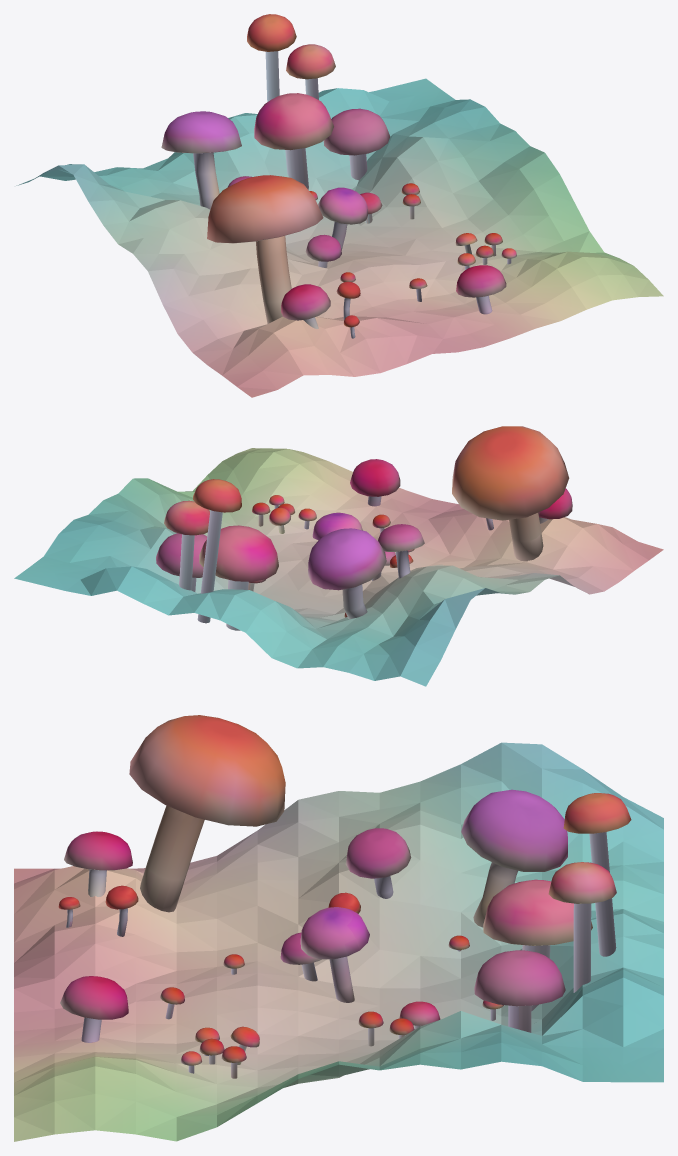
File: vc_diorama_004a.fbx
The picture shows the model from 3 angles, top to bottom: view 1: azimuth 30°, elevation 25°; view 2: azimuth 150°, elevation 25°; view 3: azimuth 270°, elevation 25°; orthographic projection. The views are drawn at different scales.
Visible parts, largest first — view 1: ground, mushroom.000, mushroom.022, mushroom.021, mushroom.018, mushroom.001, mushroom.026, mushroom.003, mushroom.020, mushroom.016, mushroom.008; view 2: ground, mushroom.000, mushroom.021, mushroom.022, mushroom.001, mushroom.003, mushroom.020, mushroom.023, mushroom.018, mushroom.026, mushroom.016; view 3: ground, mushroom.000, mushroom.021, mushroom.022, mushroom.018, mushroom.003, mushroom.001, mushroom.026, mushroom.023, mushroom.020, mushroom.016, mushroom.008 (+2 smaller).
Part boxes in pixels (left/top/right/bottom): ground: left=16, top=78, right=663, bottom=397; mushroom.000: left=207, top=175, right=323, bottom=324; mushroom.022: left=254, top=93, right=333, bottom=189; mushroom.021: left=161, top=111, right=241, bottom=209; mushroom.018: left=323, top=108, right=390, bottom=180; mushroom.001: left=247, top=14, right=296, bottom=101; mushroom.026: left=318, top=187, right=367, bottom=249; mushroom.003: left=286, top=44, right=335, bottom=99; mushroom.020: left=456, top=265, right=506, bottom=314; mushroom.016: left=281, top=284, right=330, bottom=328; mushroom.008: left=305, top=234, right=341, bottom=267; ground: left=14, top=448, right=663, bottom=686; mushroom.000: left=452, top=426, right=569, bottom=561; mushroom.021: left=308, top=528, right=386, bottom=619; mushroom.022: left=199, top=525, right=278, bottom=630; mushroom.001: left=193, top=479, right=241, bottom=623; mushroom.003: left=164, top=500, right=209, bottom=590; mushroom.020: left=350, top=459, right=400, bottom=506; mushroom.023: left=378, top=524, right=424, bottom=578; mushroom.018: left=156, top=533, right=207, bottom=591; mushroom.026: left=312, top=512, right=362, bottom=540; mushroom.016: left=538, top=488, right=572, bottom=523; ground: left=14, top=742, right=663, bottom=1141; mushroom.000: left=129, top=715, right=285, bottom=912; mushroom.021: left=461, top=789, right=567, bottom=927; mushroom.022: left=483, top=879, right=592, bottom=1011; mushroom.018: left=474, top=950, right=565, bottom=1032; mushroom.003: left=548, top=862, right=616, bottom=992; mushroom.001: left=563, top=793, right=631, bottom=956; mushroom.026: left=300, top=907, right=369, bottom=1002; mushroom.023: left=345, top=828, right=411, bottom=898; mushroom.020: left=60, top=976, right=128, bottom=1042; mushroom.016: left=64, top=831, right=132, bottom=896; mushroom.008: left=280, top=932, right=321, bottom=981.
Size of the model in its own units: 100 by 40.22 by 100.
